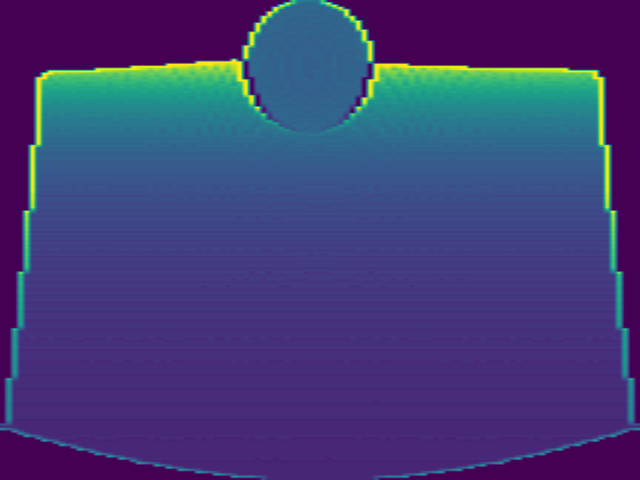sphere: (242, 1, 376, 134)
